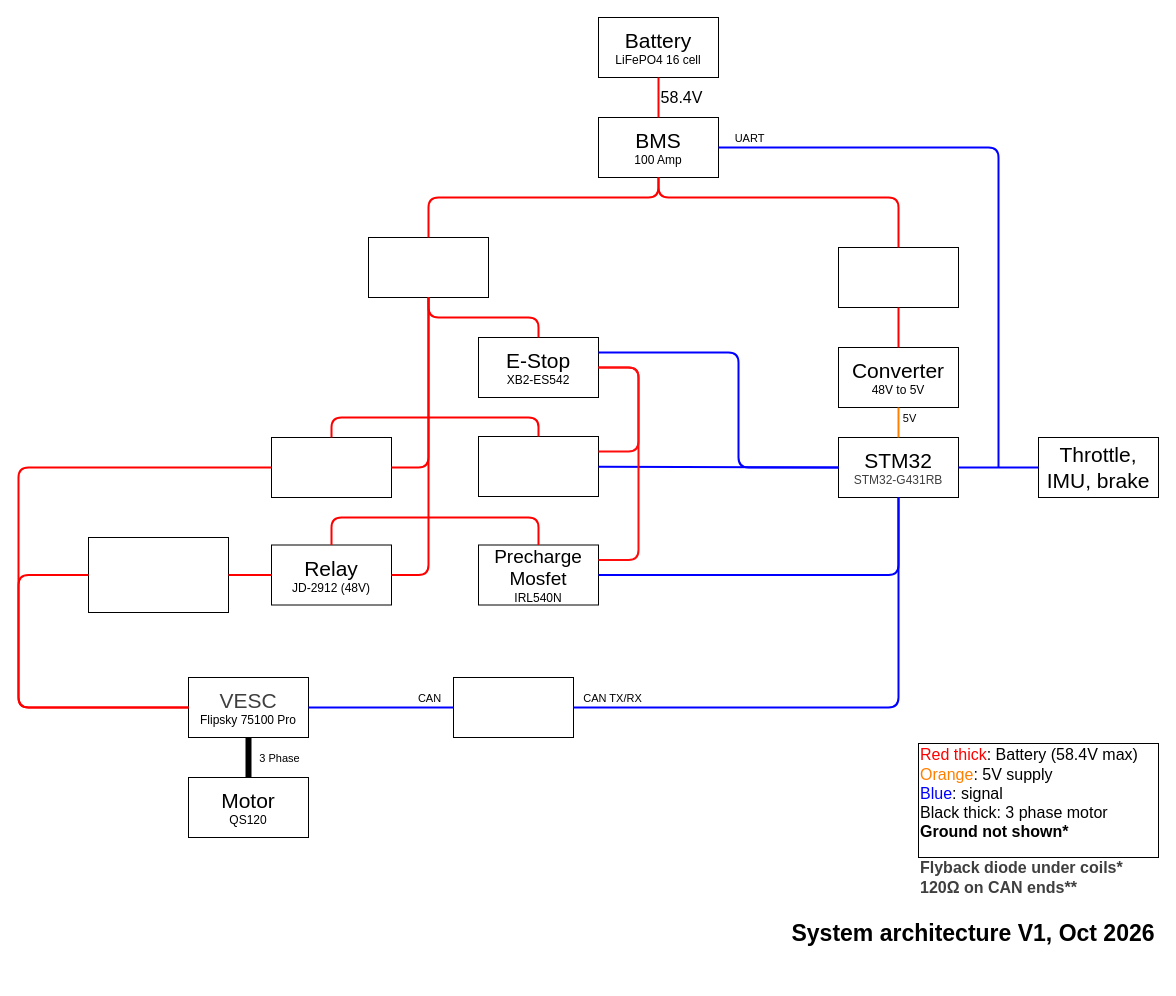
Some shapes in this 1176 by 996 pixel diagram are drawn without their labels. The box of each missing label's shape, as (x1, y1, x2, y2) in pixels:
CAN Module ISO1050 isolated transceiver: (452, 676, 574, 738)
Contactor AHL 48V: (270, 436, 392, 498)
Contactor Mosfet IRL540N: (478, 436, 598, 496)
Fuse 120 Amp: (368, 236, 488, 298)
Fuse 2 Amp: (838, 246, 958, 308)
Precharge Resistor 100W-100R: (88, 536, 228, 612)
